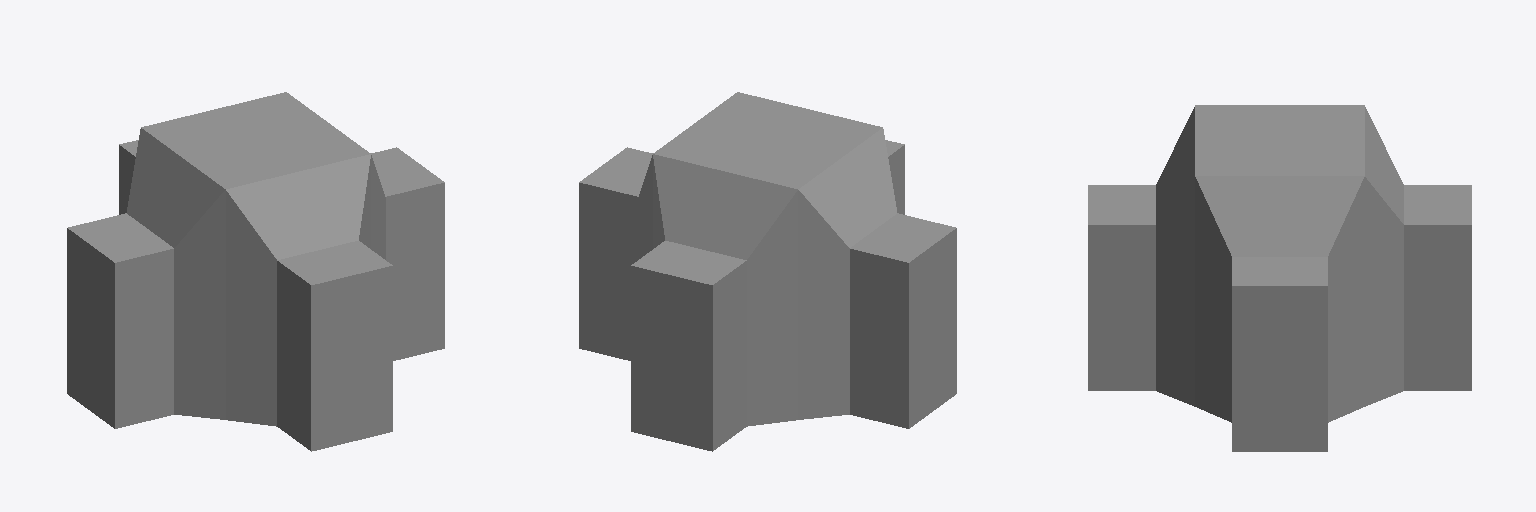
Rendered from wall.obj.
3 views of the same model, side by side, from view 1: azimuth 30°, elevation 25°; view 2: azimuth 150°, elevation 25°; view 3: azimuth 270°, elevation 25° (orthographic).
Visible parts, largest first — view 1: Cube; view 2: Cube; view 3: Cube.
Boxes of the visible parts, x1,y1,x2,y2 form: Cube: [67, 92, 444, 451]; Cube: [579, 92, 956, 451]; Cube: [1088, 105, 1471, 451].
Size of the model in its own units: 3.09 by 2.07 by 3.13.